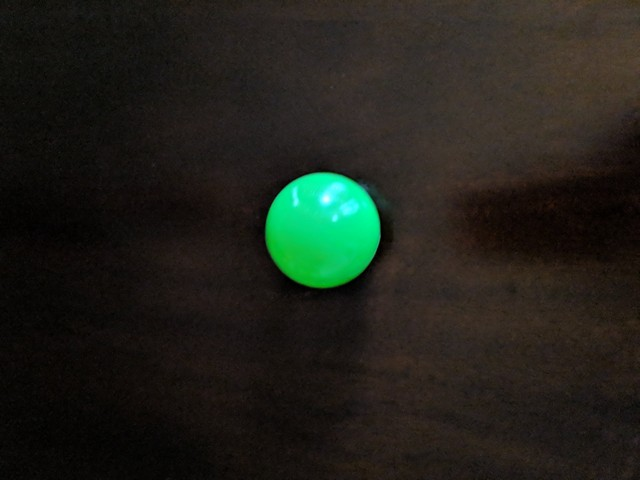ball: (265, 173, 383, 290)
